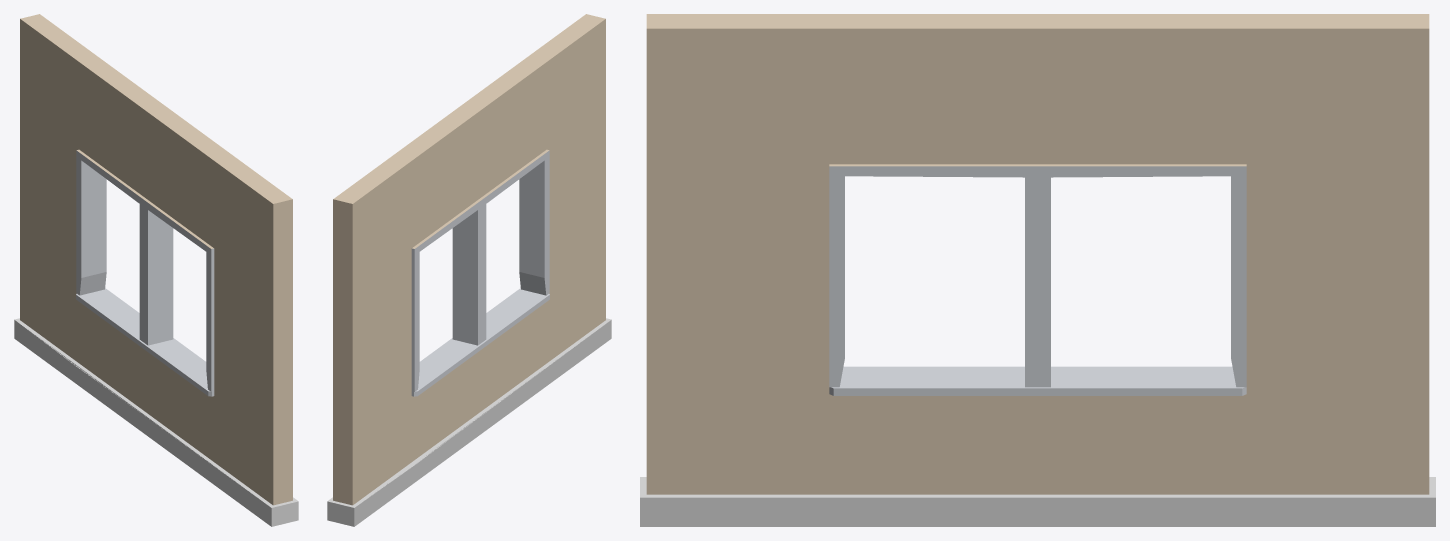
File: WallWindow.fbx
3 views of the same model, side by side, from view 1: azimuth 30°, elevation 25°; view 2: azimuth 150°, elevation 25°; view 3: azimuth 270°, elevation 25° (orthographic). The views are drawn at different scales.
Visible parts, largest first — view 1: WallWindow; view 2: WallWindow; view 3: WallWindow.
Boxes of the visible parts, x1=… form: WallWindow: x1=14, y1=14, x2=298, y2=526; WallWindow: x1=327, y1=14, x2=611, y2=526; WallWindow: x1=640, y1=14, x2=1435, y2=526.
Bounding box in the file's own units: 135 × 1397 × 2034.
